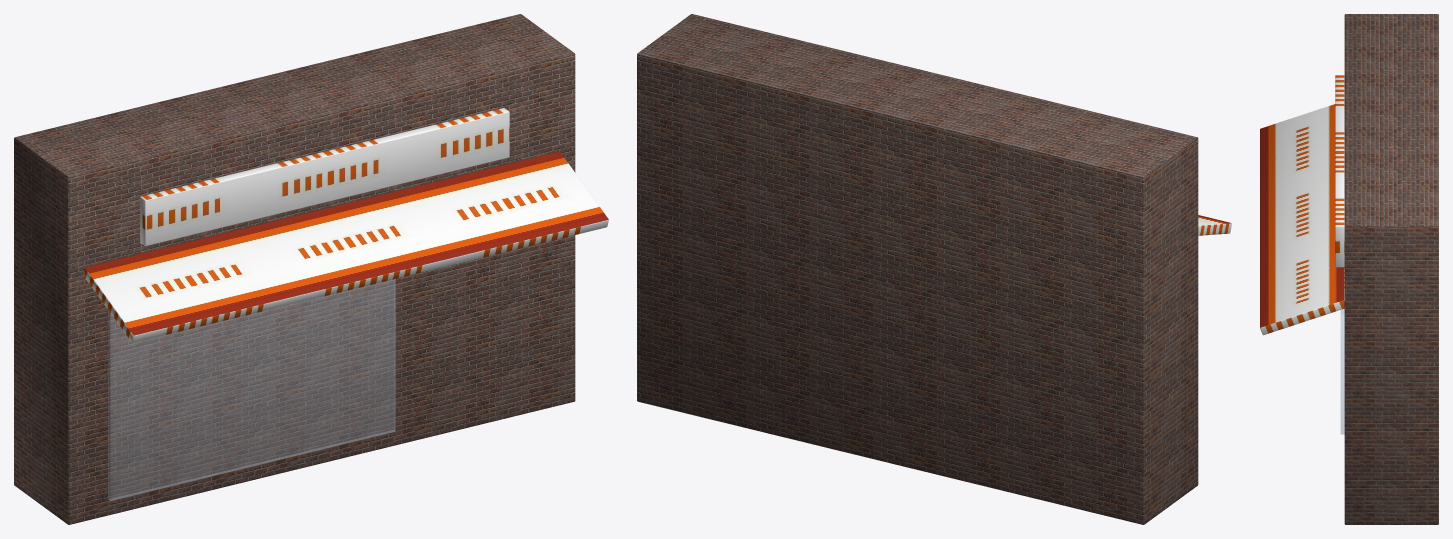
Rendered from shop-bakery-361803b495ef.glb.
3 renders of one model, left to right at view 1: azimuth 30°, elevation 25°; view 2: azimuth 150°, elevation 25°; view 3: azimuth 270°, elevation 25°, orthographic. The views are drawn at different scales.
Parts seen in each view (by area): view 1: Shell, Mesh_Awning_shopfront_bakery_facade, Display_Glass; view 2: Shell; view 3: Shell, Mesh_Awning_shopfront_bakery_facade, Display_Glass.
Boxes of the visible parts, left/top/right/bottom form: Shell: left=14, top=14, right=575, bottom=524; Mesh_Awning_shopfront_bakery_facade: left=84, top=108, right=608, bottom=342; Display_Glass: left=108, top=279, right=395, bottom=500; Shell: left=637, top=14, right=1198, bottom=524; Shell: left=1344, top=14, right=1438, bottom=524; Mesh_Awning_shopfront_bakery_facade: left=1260, top=75, right=1344, bottom=335; Display_Glass: left=1340, top=309, right=1344, bottom=434.
Bounding box in the file's own units: 6.4 × 4.2 × 2.28.
Materials: 4 (3 with a texture image).
